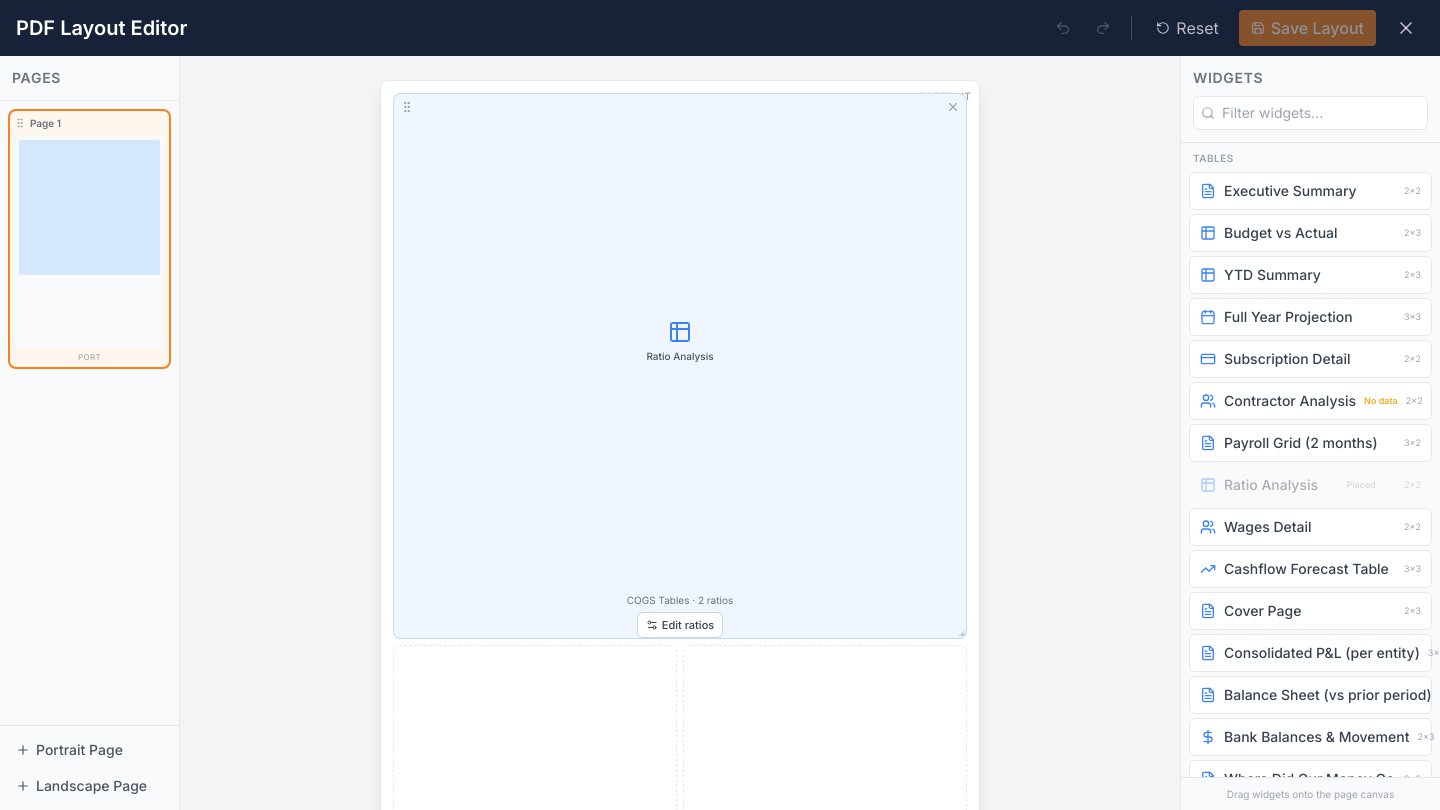
Scenario: Urban Road › every control in a ratio says in words what it does — no bare icons
Step 1. Click the button "Edit ratios" → (680, 625), box 637,612 -> 723,638
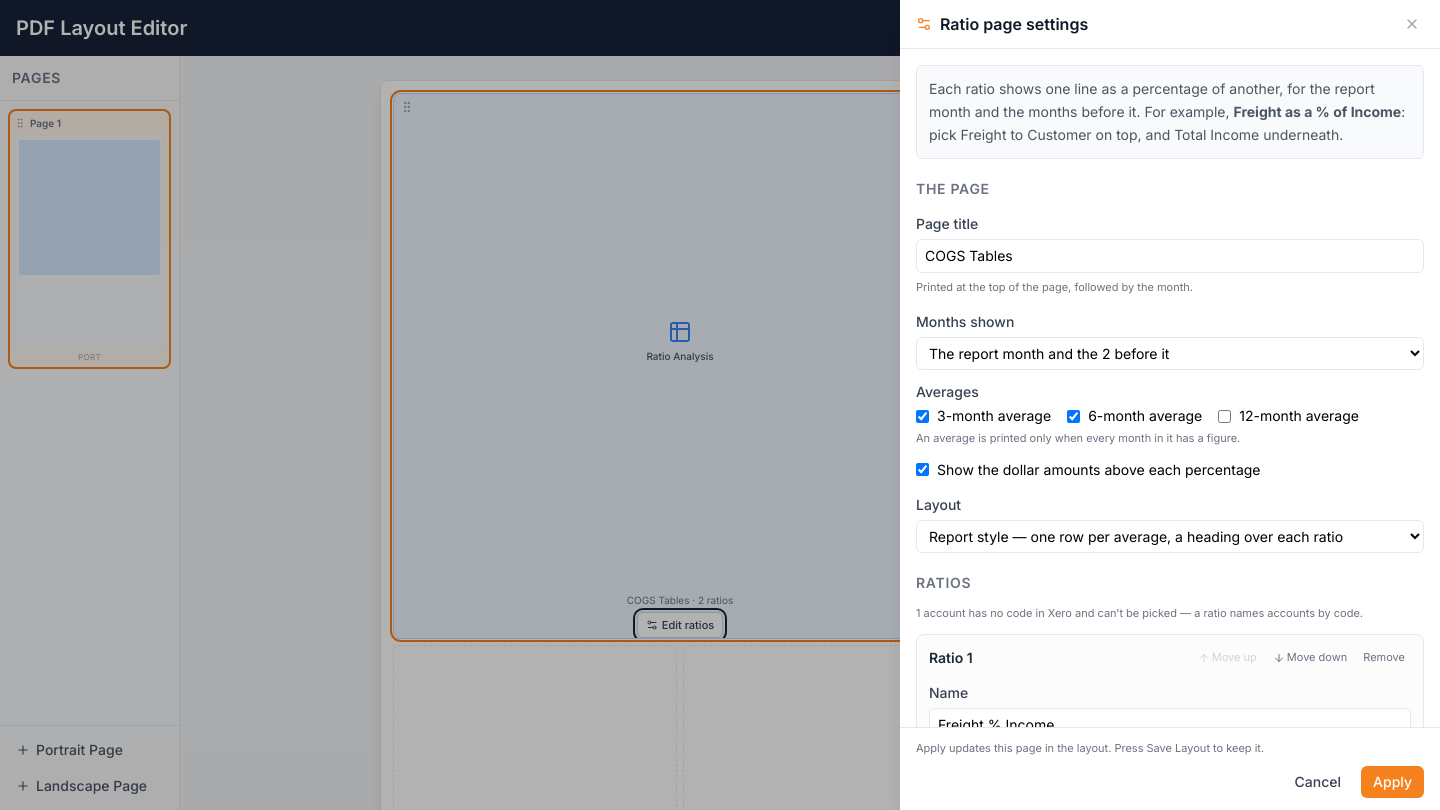
expect the button with aria-label "Move ratio 1 down" reads "Move down": met, box 1267,647 -> 1353,668
